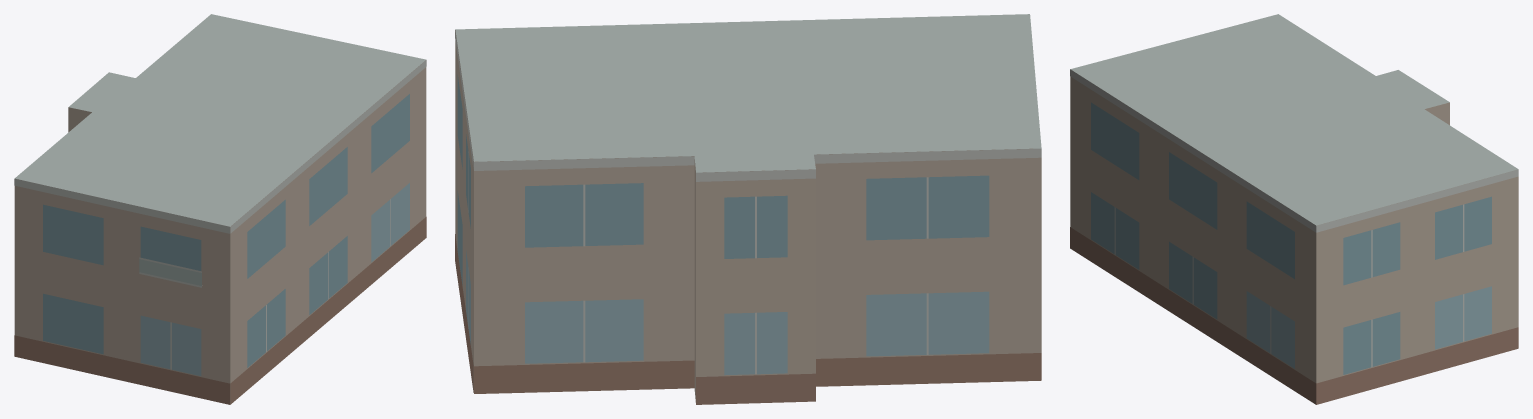
Rendered from survey-upis-32624060.glb.
The picture shows the model from 3 angles, left to right: view 1: azimuth 30°, elevation 25°; view 2: azimuth 150°, elevation 25°; view 3: azimuth 270°, elevation 25°; orthographic projection. The views are drawn at different scales.
Visible parts, largest first — view 1: survey-upis-32624060.tmp; view 2: survey-upis-32624060.tmp; view 3: survey-upis-32624060.tmp.
Part boxes in pixels (x1,y1,x2,y2): survey-upis-32624060.tmp: [14, 14, 426, 404]; survey-upis-32624060.tmp: [455, 14, 1041, 404]; survey-upis-32624060.tmp: [1070, 14, 1518, 404].
Size of the model in its own units: 15.45 by 6.1 by 13.84.
